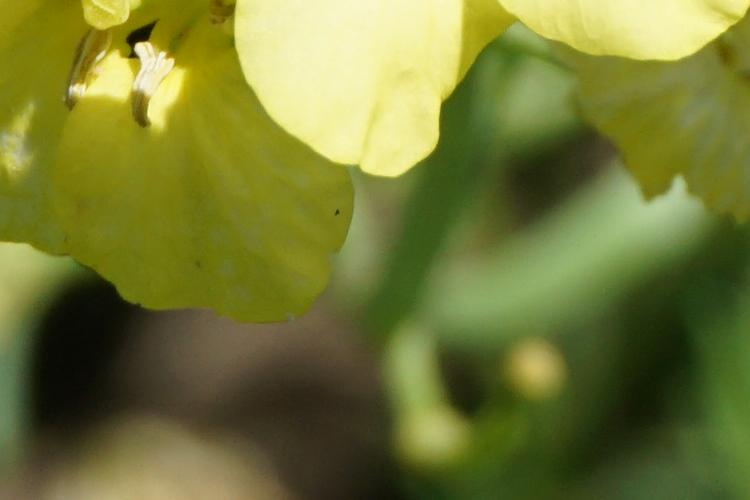yellow: (23, 9, 456, 322)
